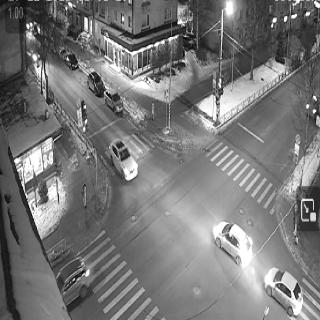small-vehicle: (47, 260, 91, 310), (264, 266, 304, 316), (214, 222, 252, 270), (109, 140, 138, 183), (104, 87, 123, 116), (87, 71, 104, 97), (304, 92, 319, 118), (65, 54, 78, 71), (30, 49, 40, 61), (58, 49, 67, 61), (25, 19, 33, 32), (32, 27, 40, 35)
